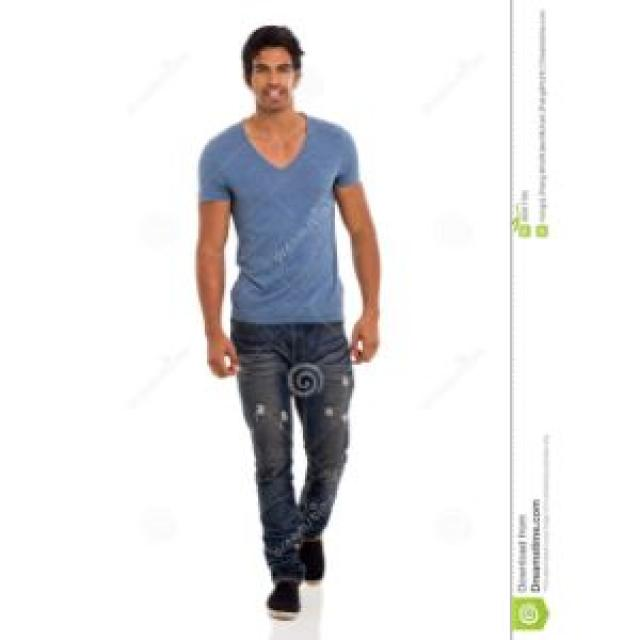nonfall: (161, 18, 415, 618)
